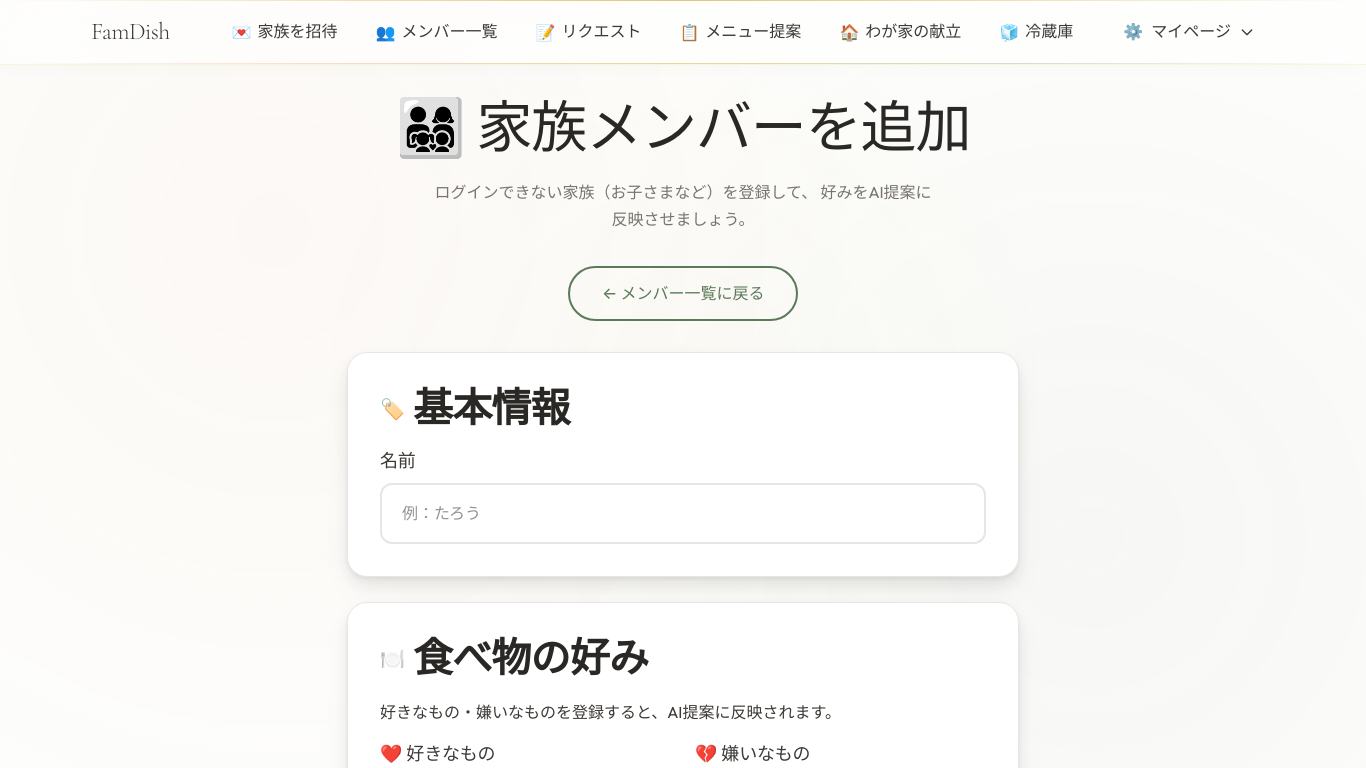
Test: InviteMemberPage › 送信成功時にメンバー作成APIが呼ばれ、成功メッセージが表示される
In the field with placeholder "例：たろう": (683, 514) [380,483,986,545], type "たろう"
(page scrolled)
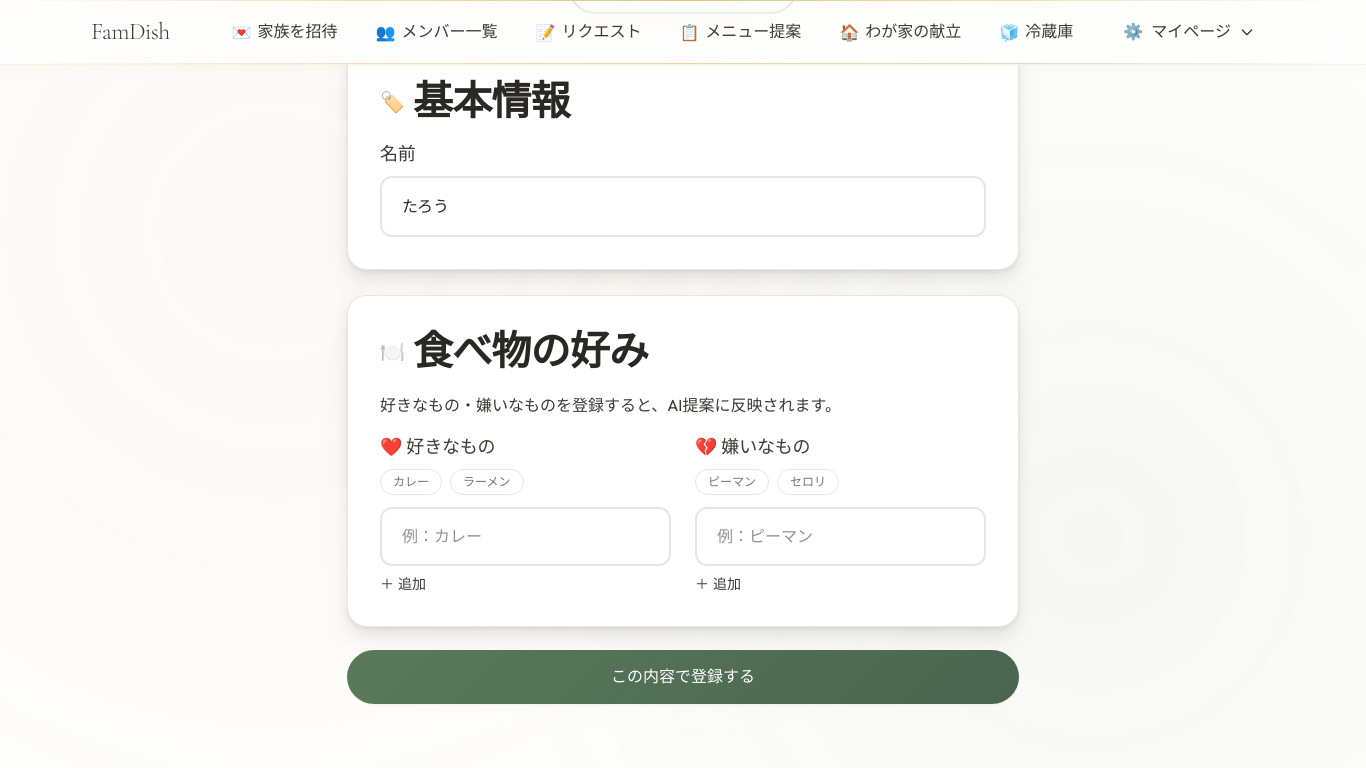
Click the button "この内容で登録する": click(683, 677) [347,650,1019,704]
(page scrolled)
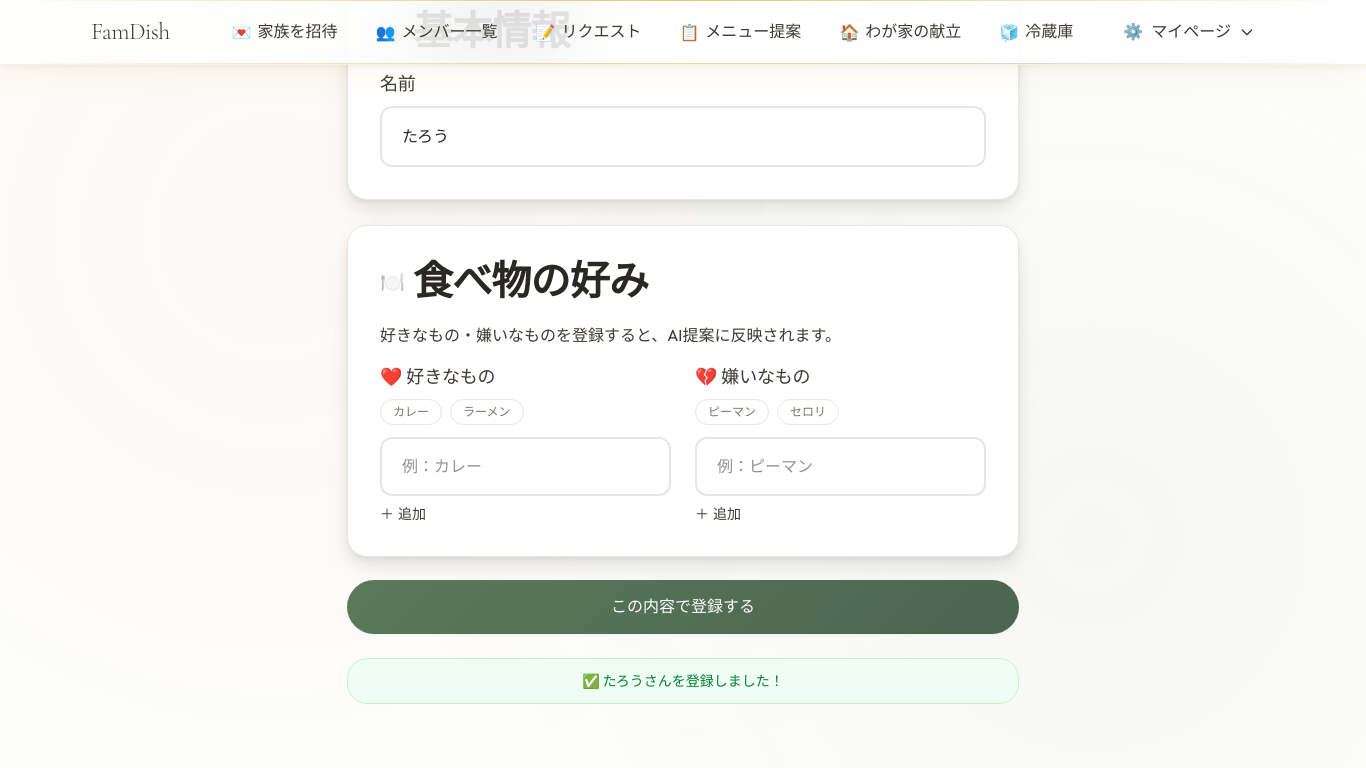
Result: the text "✅ たろうさんを登録しました！" is shown at [347,658,1019,704]
